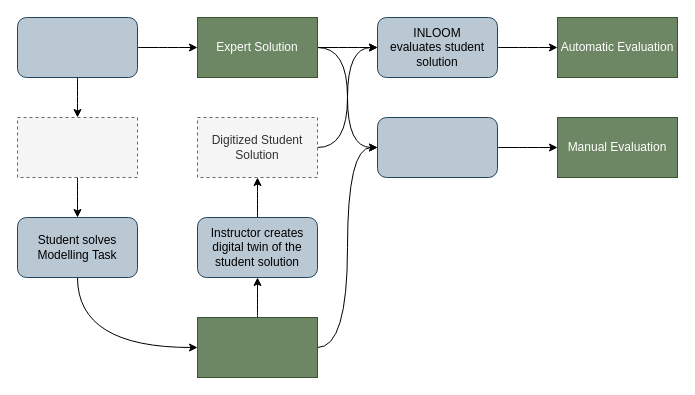
Some shapes in this 695 by 395 pixel diagram are drawn without their labels. Here are the shapes that lost their labels. From the top down, the centre of each, then its label:
(77,47): Instructor creates new modelling Task and its expert solution
(77,147): Modelling Task
(437,147): Instructor evaluates student solution
(257,347): Student Solution
